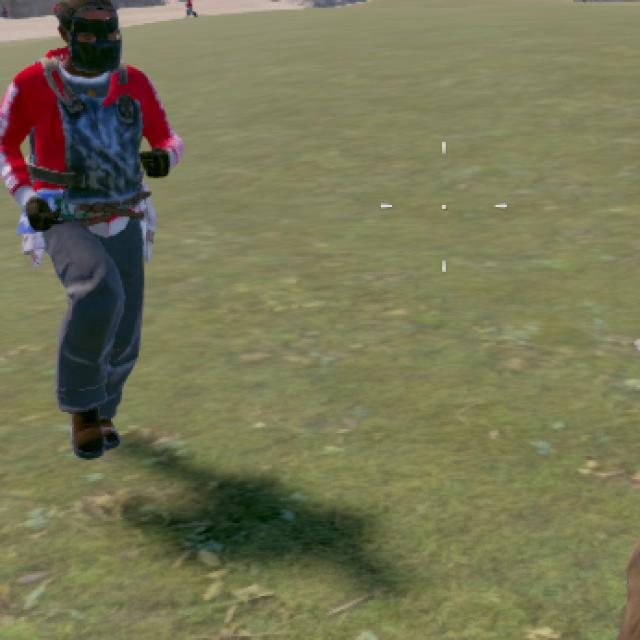Player: (6, 1, 185, 456)
